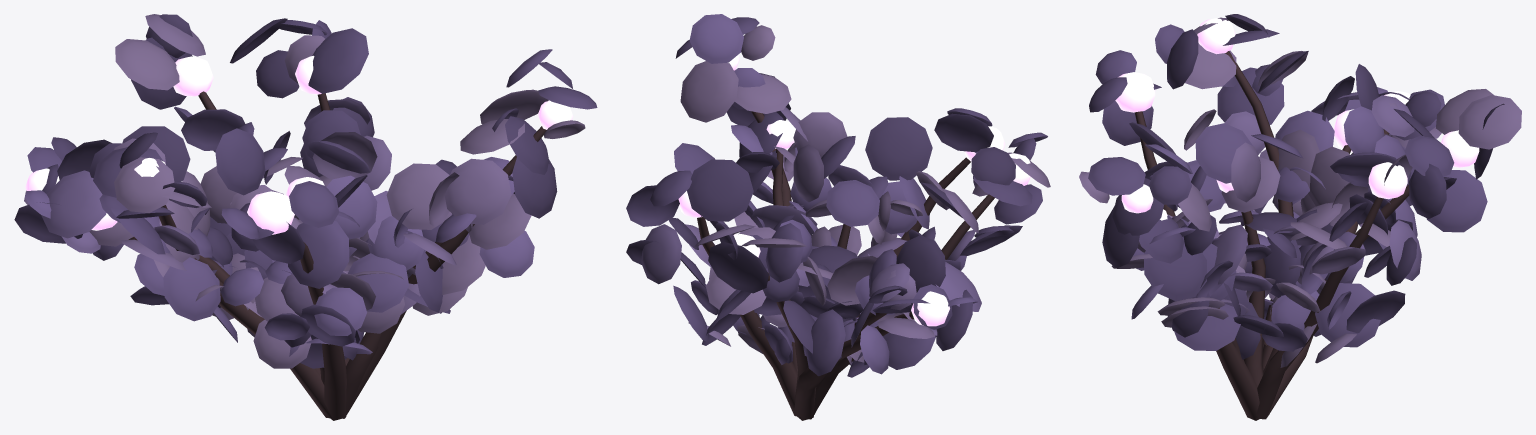
The model's file is shrub.glb.
The picture shows the model from 3 angles, left to right: view 1: azimuth 30°, elevation 25°; view 2: azimuth 150°, elevation 25°; view 3: azimuth 270°, elevation 25°; orthographic projection. The views are drawn at different scales.
Parts seen in each view (by area): view 1: shrub; view 2: shrub; view 3: shrub.
Part boxes in pixels (x1,y1,x2,y2): shrub: (14,14,597,420); shrub: (626,14,1050,420); shrub: (1079,14,1521,420).
Size of the model in its own units: 1.87 by 1.5 by 1.75.
